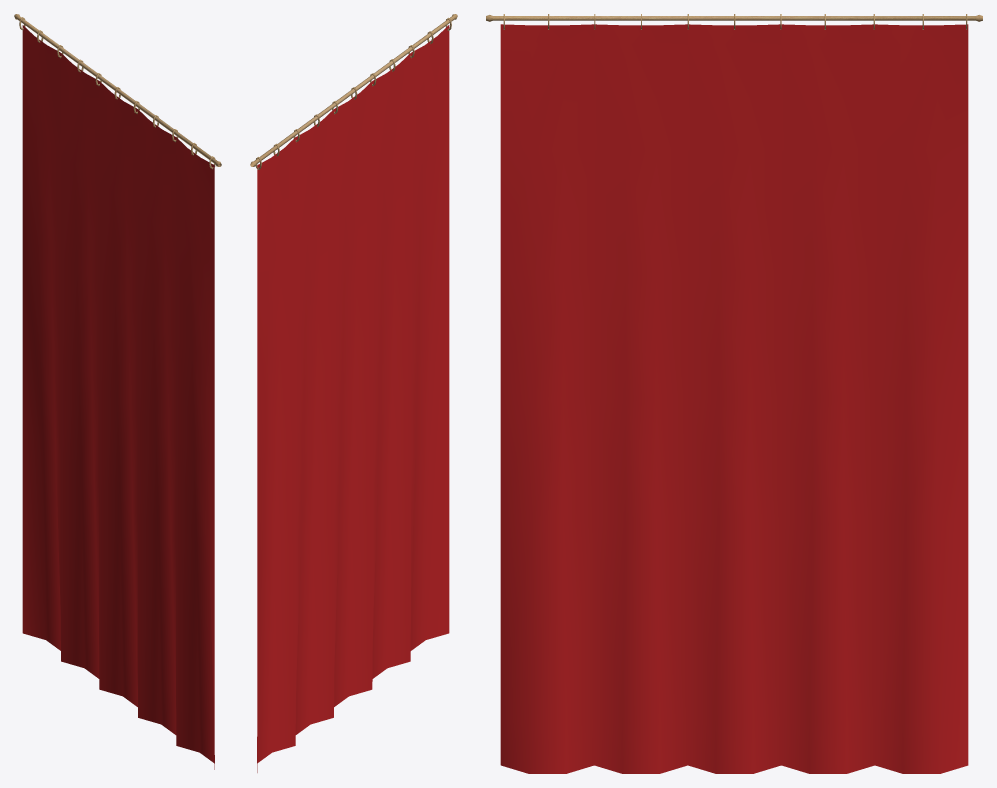
The model's file is MOD_FUR_Shower_stall_01_Curtain_01.fbx.
The picture shows the model from 3 angles, left to right: view 1: azimuth 30°, elevation 25°; view 2: azimuth 150°, elevation 25°; view 3: azimuth 270°, elevation 25°; orthographic projection. The views are drawn at different scales.
Parts seen in each view (by area): view 1: HSHP_MOD_Shower_curtain_01, HSHP_MOD_Shower_stall_01_Rod_01, HSHP_MOD_Shower_stall_01_Rings_01; view 2: HSHP_MOD_Shower_curtain_01, HSHP_MOD_Shower_stall_01_Rod_01, HSHP_MOD_Shower_stall_01_Rings_01; view 3: HSHP_MOD_Shower_curtain_01, HSHP_MOD_Shower_stall_01_Rod_01.
Part boxes in pixels (bbox=[...]): HSHP_MOD_Shower_curtain_01: bbox=[22, 25, 214, 769]; HSHP_MOD_Shower_stall_01_Rod_01: bbox=[14, 14, 221, 166]; HSHP_MOD_Shower_stall_01_Rings_01: bbox=[19, 17, 215, 169]; HSHP_MOD_Shower_curtain_01: bbox=[257, 25, 449, 772]; HSHP_MOD_Shower_stall_01_Rod_01: bbox=[250, 14, 457, 166]; HSHP_MOD_Shower_stall_01_Rings_01: bbox=[256, 17, 451, 169]; HSHP_MOD_Shower_curtain_01: bbox=[500, 24, 968, 773]; HSHP_MOD_Shower_stall_01_Rod_01: bbox=[486, 15, 982, 21].
Bounding box in the file's own units: 0.062 × 2.33 × 1.39.
